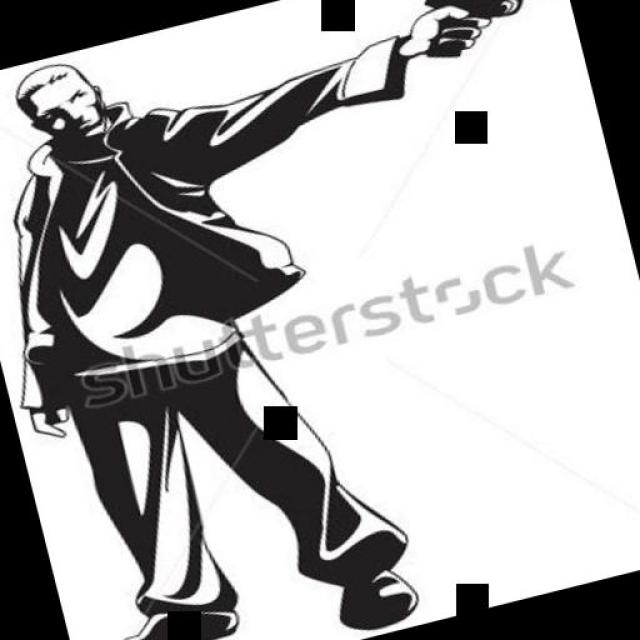gun: (398, 0, 566, 62)
